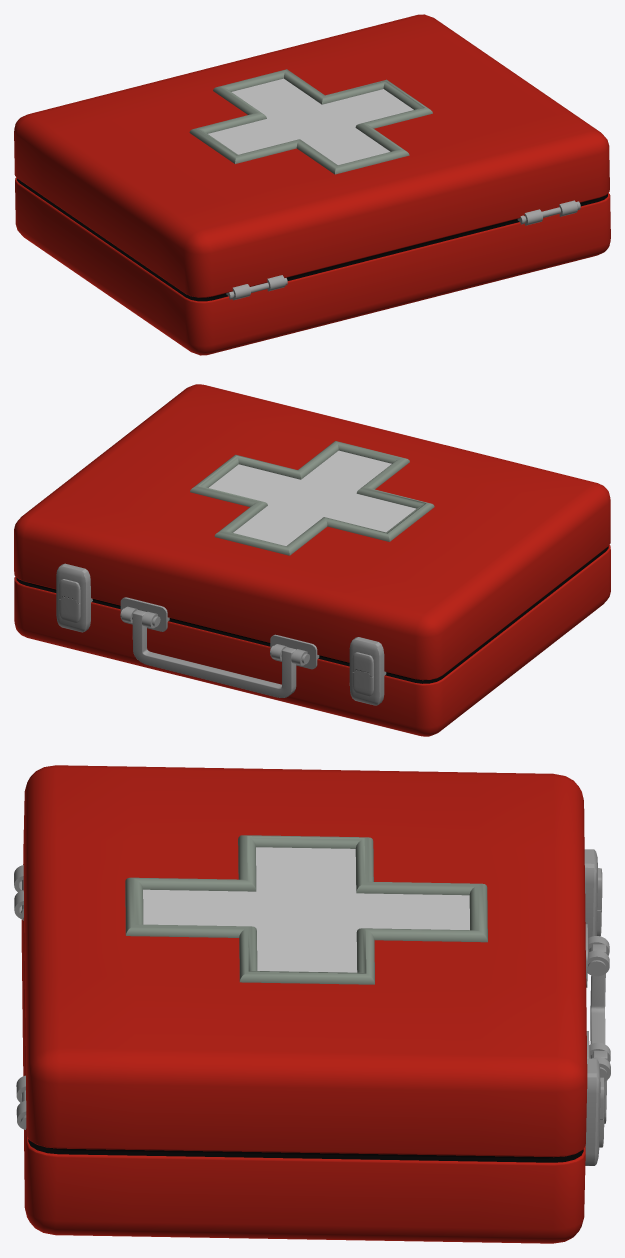
The model's file is Health.fbx.
3 views of the same model, one above another, from view 1: azimuth 30°, elevation 25°; view 2: azimuth 150°, elevation 25°; view 3: azimuth 270°, elevation 25° (orthographic). The views are drawn at different scales.
Visible parts, largest first — view 1: Cube; view 2: Cube; view 3: Cube.
Part boxes in pixels (left/top/right/bottom): Cube: left=14, top=14, right=610, bottom=355; Cube: left=14, top=384, right=610, bottom=736; Cube: left=14, top=765, right=610, bottom=1243.
Size of what is drawn, in the model's own units: 168 by 50.74 by 136.
